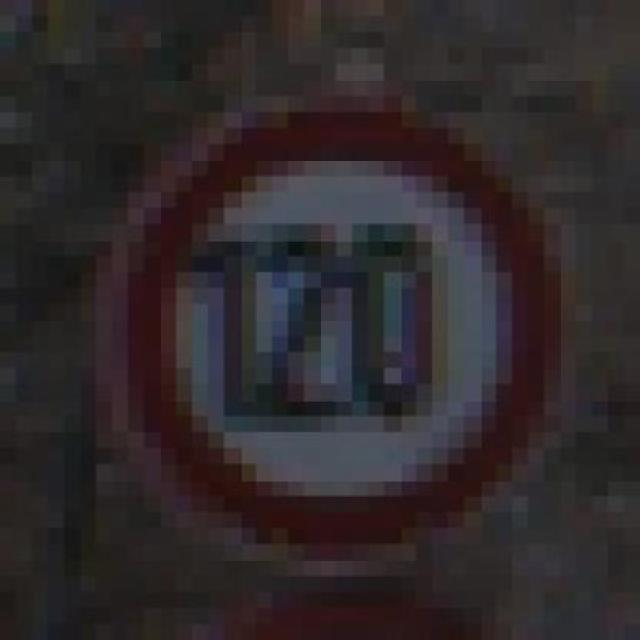forb_speed_over_120: (125, 114, 546, 555)
